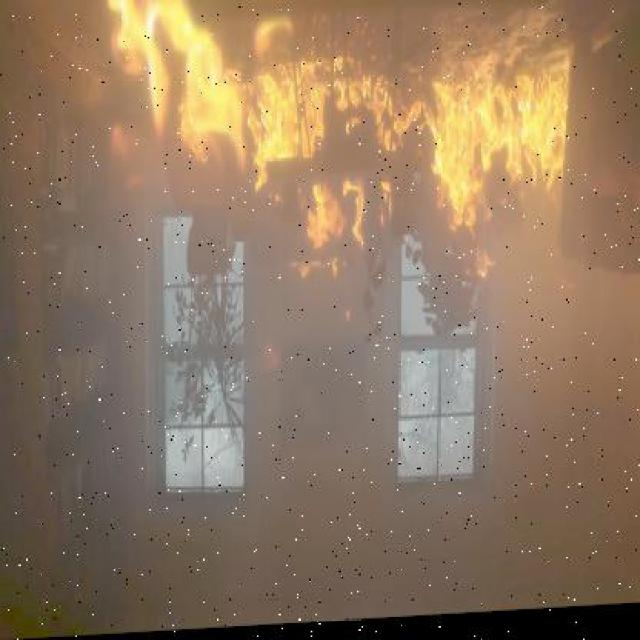fire: (55, 1, 567, 317)
